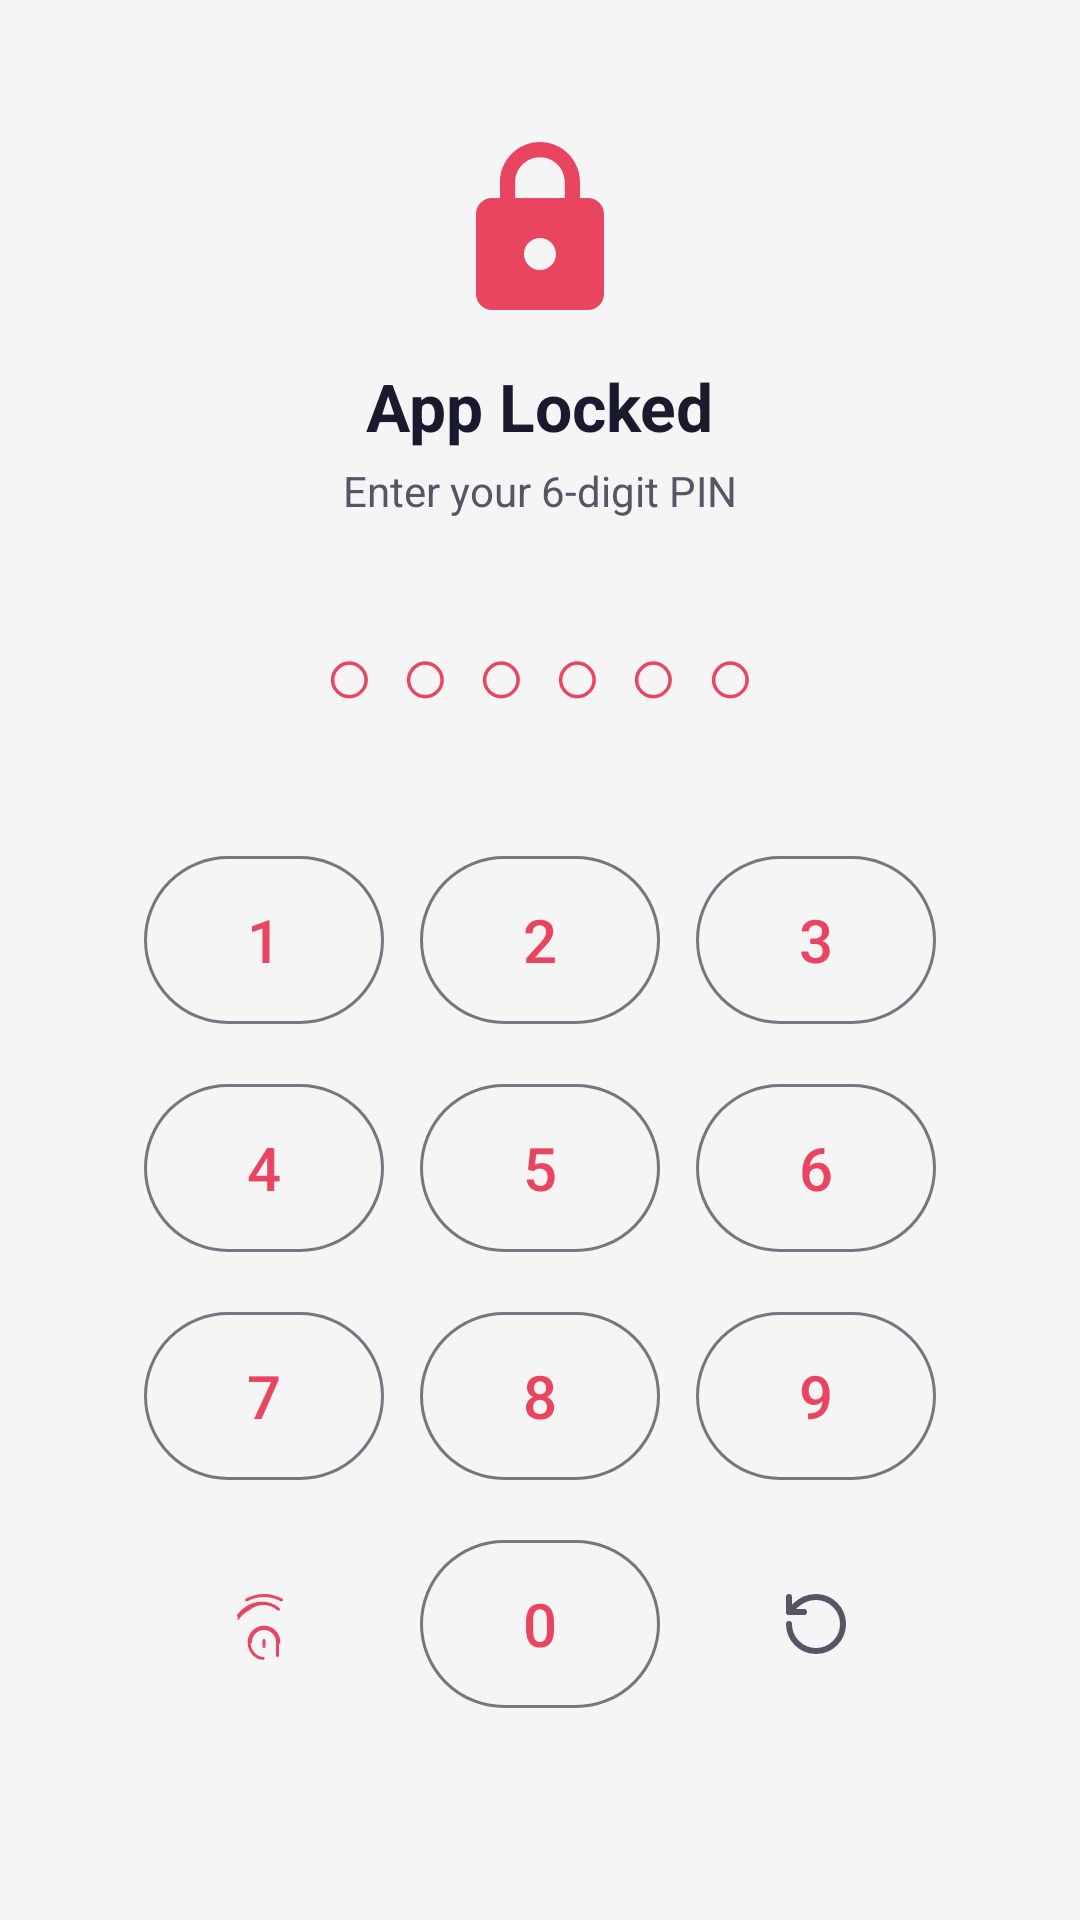

Icon click points for this 1080x1920 phone screenshot, format point (x, y):
Fingerprint: point (260, 1627)
